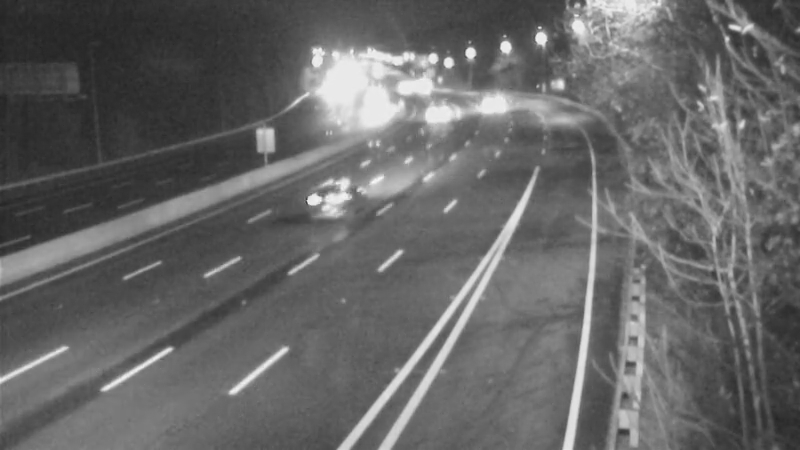vehicle: (287, 160, 367, 240), (466, 79, 516, 129), (409, 86, 459, 136), (346, 87, 396, 137)
